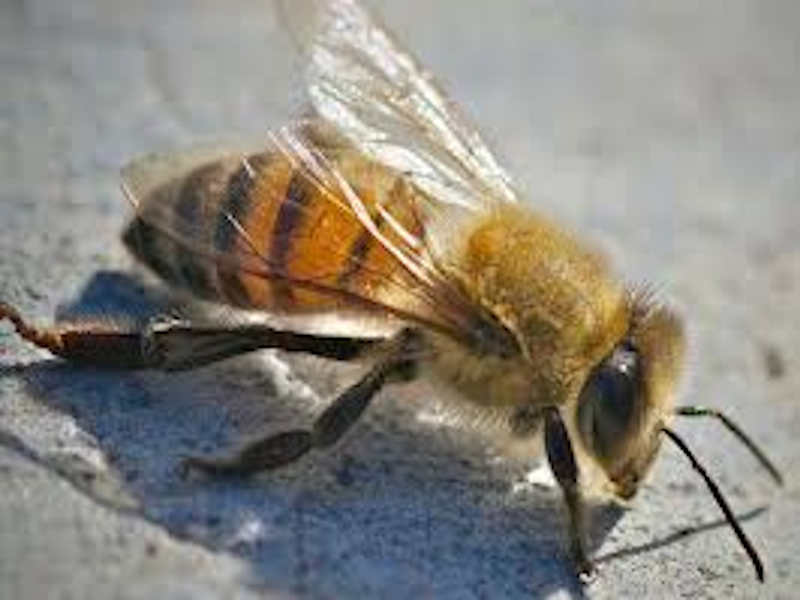abeja: (3, 1, 778, 595)
